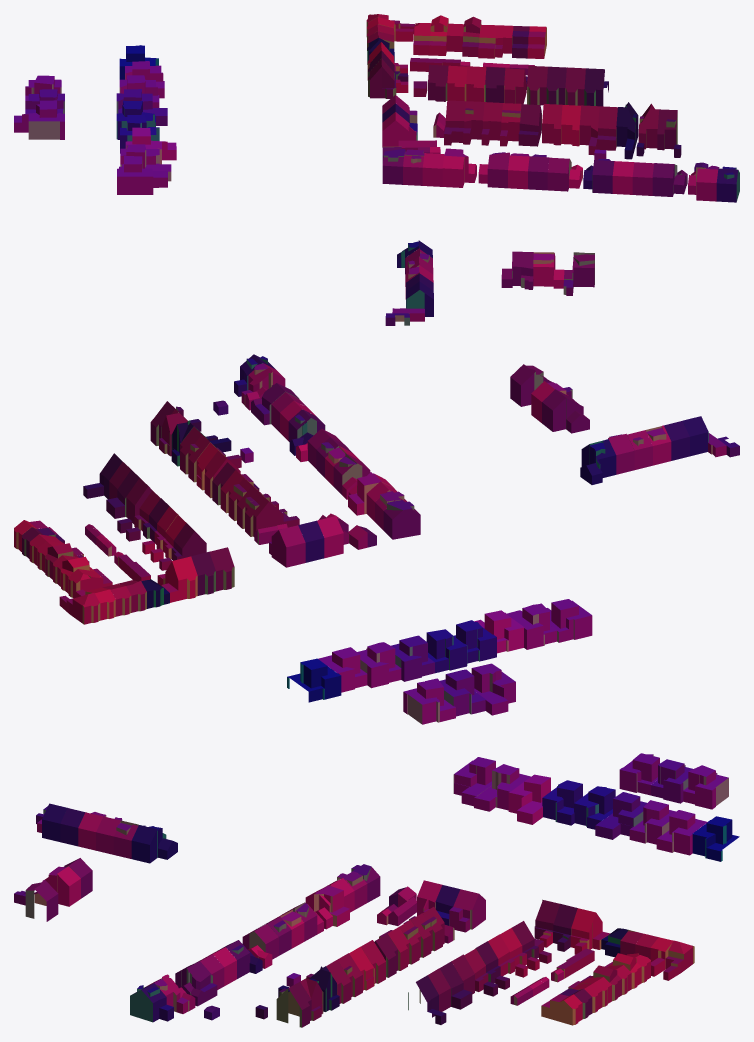
Rendered from buildings_3_9.glb.
3 renders of one model, top to bottom at view 1: azimuth 30°, elevation 25°; view 2: azimuth 150°, elevation 25°; view 3: azimuth 270°, elevation 25°, orthographic. The views are drawn at different scales.
Parts seen in each view (by area): view 1: buildings_3_9; view 2: buildings_3_9; view 3: buildings_3_9.
Part boxes in pixels (x1,y1,x2,y2): buildings_3_9: [14, 14, 739, 325]; buildings_3_9: [14, 354, 739, 724]; buildings_3_9: [14, 753, 739, 1027].
Size of the model in its own units: 174 by 12.22 by 210.
